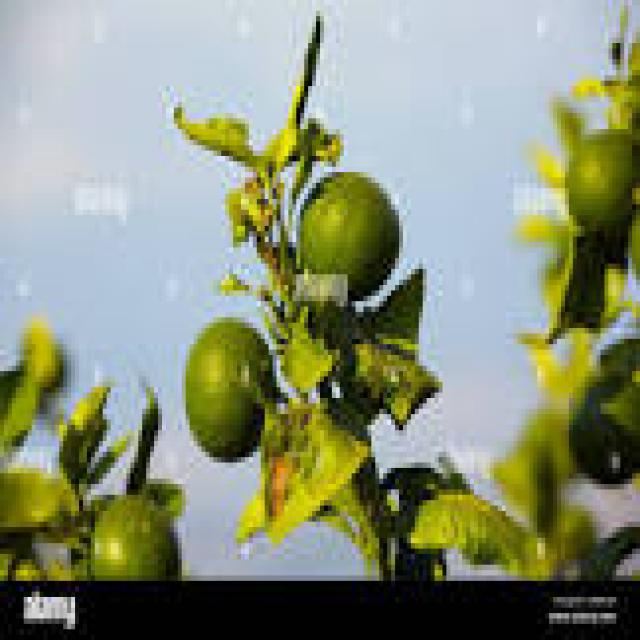orange: (296, 172, 399, 296), (186, 317, 273, 457), (565, 129, 636, 231), (91, 495, 178, 575)
